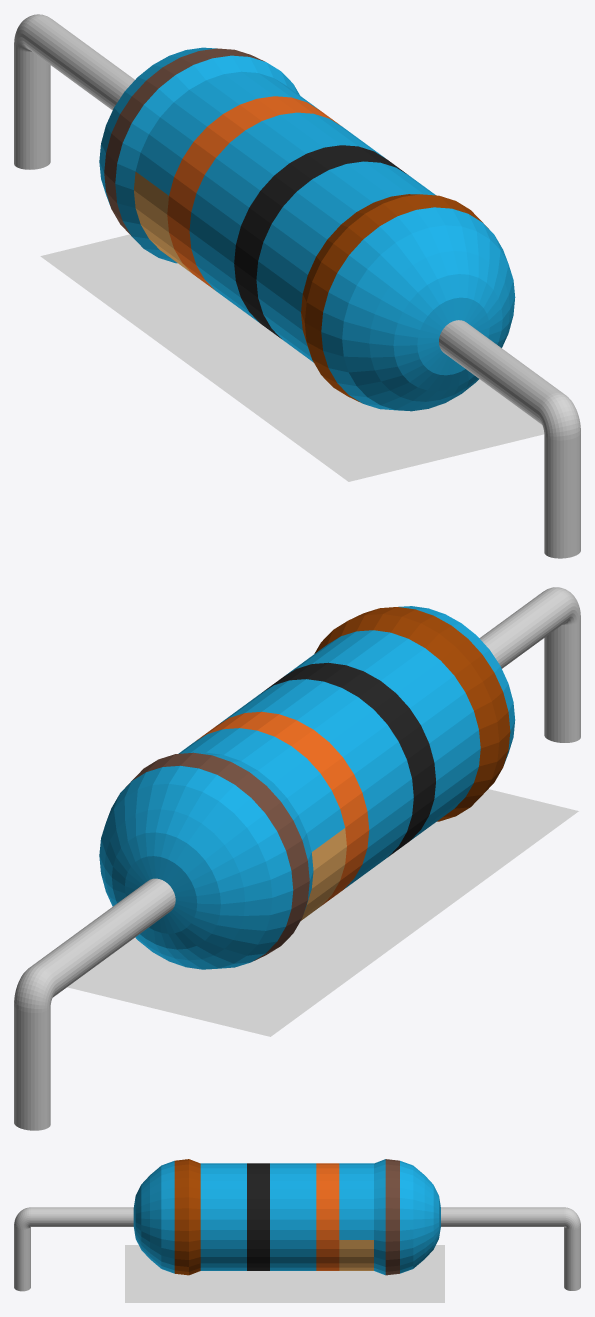
File: R_19_defect.gltf
3 views of the same model, one above another, from view 1: azimuth 30°, elevation 25°; view 2: azimuth 150°, elevation 25°; view 3: azimuth 270°, elevation 25° (orthographic). The views are drawn at different scales.
Visible parts, largest first — view 1: R_19, R_19_plane; view 2: R_19, R_19_plane; view 3: R_19, R_19_plane.
Part boxes in pixels (x1,y1,x2,y2): R_19: [14, 14, 580, 558]; R_19_plane: [40, 234, 544, 481]; R_19: [14, 587, 580, 1130]; R_19_plane: [67, 789, 578, 1036]; R_19: [14, 1159, 580, 1291]; R_19_plane: [125, 1245, 444, 1302].
Size of the model in its own units: 0.0161 by 0.0159 by 0.0664.
